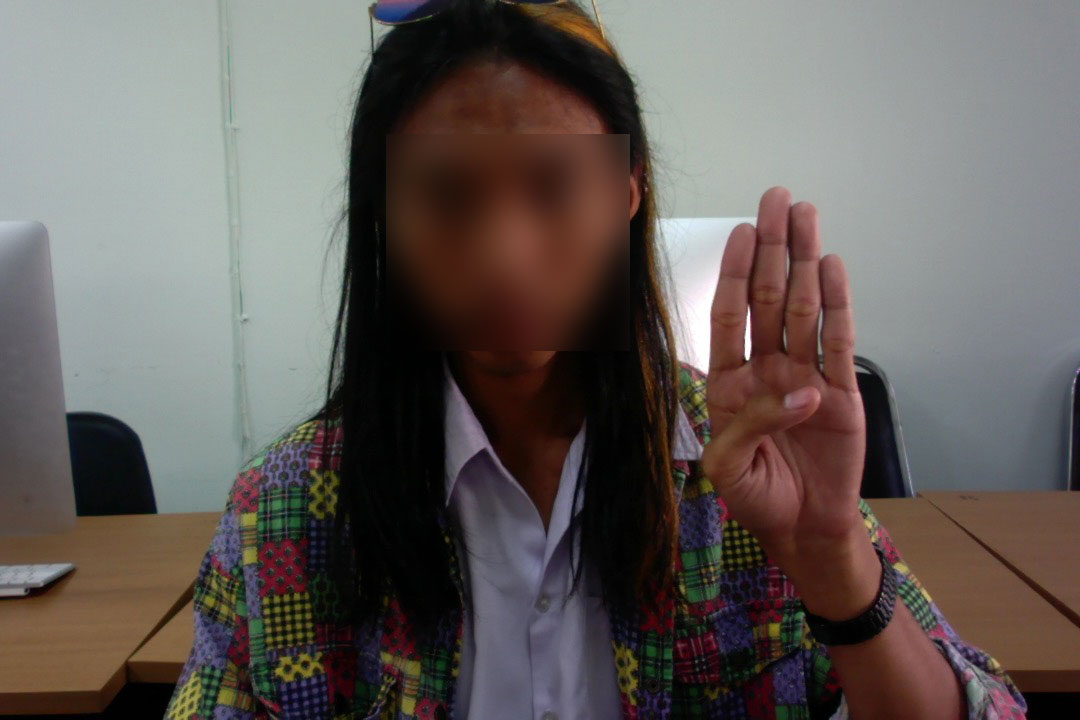bor: (689, 177, 900, 572)
